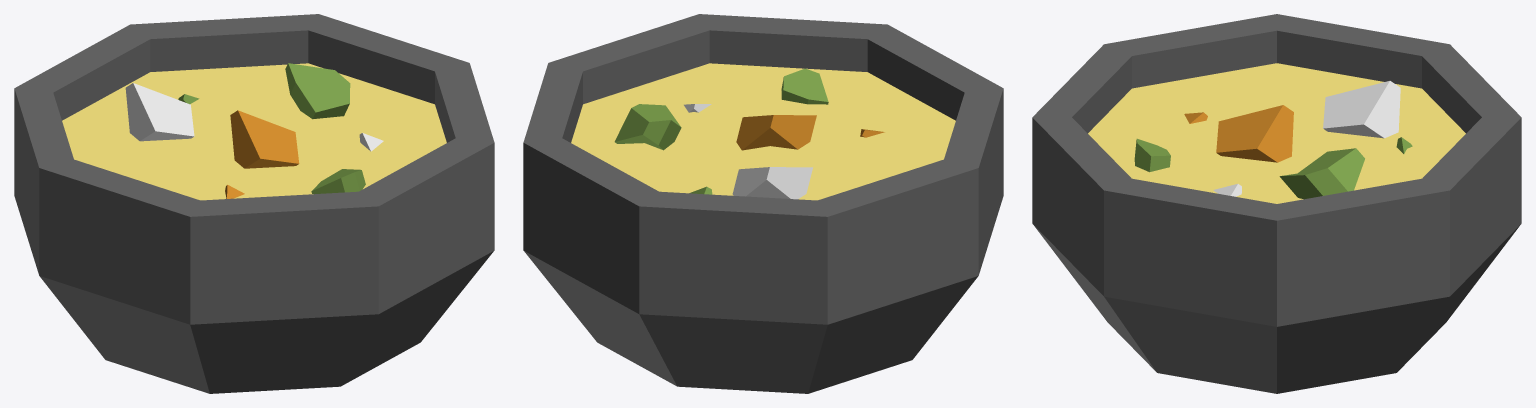
The model's file is Steampunk_2.fbx.
The picture shows the model from 3 angles, left to right: view 1: azimuth 30°, elevation 25°; view 2: azimuth 150°, elevation 25°; view 3: azimuth 270°, elevation 25°; orthographic projection.
Parts seen in each view (by area): view 1: Cylinder.025, Cylinder.029, Cube.020, Cube.017, Cube.018, Cube.019; view 2: Cylinder.025, Cylinder.029, Cube.020, Cube.017, Cube.018, Cube.019; view 3: Cylinder.025, Cylinder.029, Cube.020, Cube.017, Cube.018, Cube.019.
Part boxes in pixels (bbox=[...]): Cylinder.025: bbox=[14, 14, 494, 393]; Cylinder.029: bbox=[62, 63, 446, 200]; Cube.020: bbox=[230, 110, 299, 168]; Cube.017: bbox=[125, 83, 194, 141]; Cube.018: bbox=[285, 63, 350, 119]; Cube.019: bbox=[311, 169, 365, 194]; Cylinder.025: bbox=[523, 14, 1003, 393]; Cylinder.029: bbox=[571, 63, 955, 200]; Cube.020: bbox=[736, 115, 816, 150]; Cube.017: bbox=[732, 167, 812, 199]; Cube.018: bbox=[614, 104, 681, 150]; Cube.019: bbox=[781, 68, 828, 104]; Cylinder.025: bbox=[1032, 14, 1521, 393]; Cylinder.029: bbox=[1088, 63, 1465, 203]; Cube.020: bbox=[1216, 105, 1293, 162]; Cube.017: bbox=[1323, 81, 1400, 138]; Cube.018: bbox=[1279, 148, 1364, 199]; Cube.019: bbox=[1134, 138, 1170, 172].
Size of the model in its own units: 182 by 86.55 by 182.
